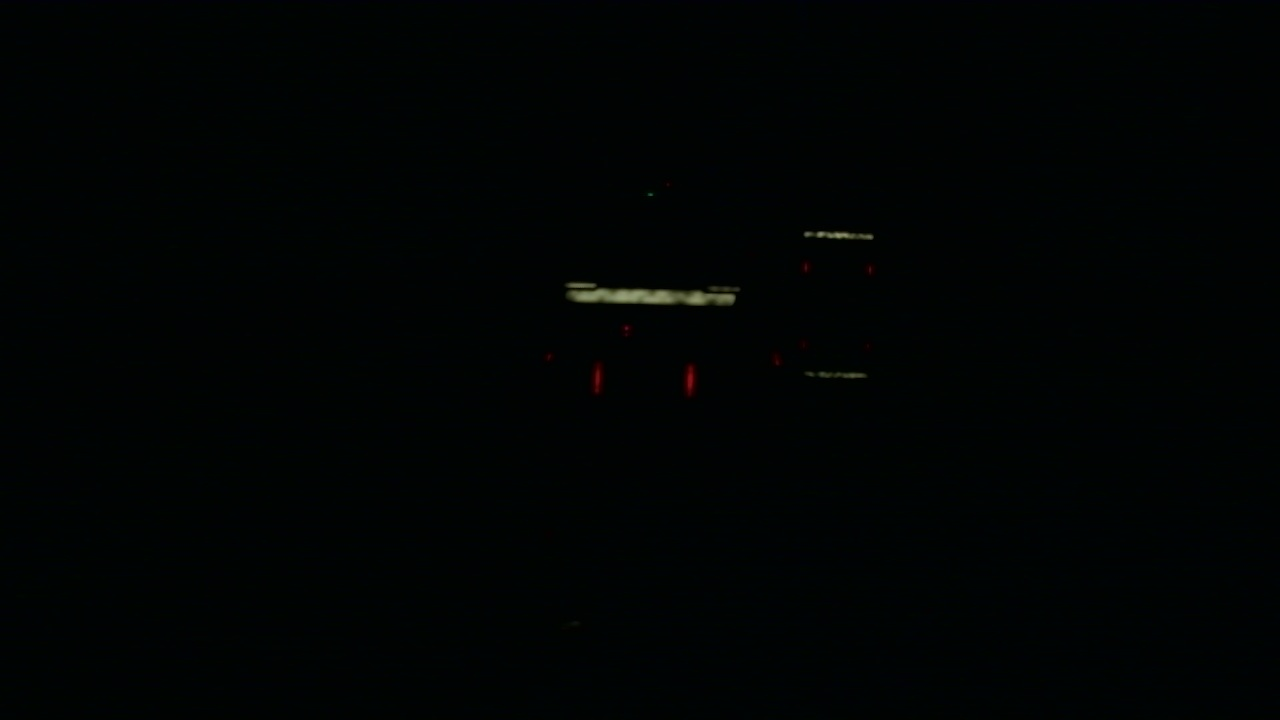lamp: (686, 362, 696, 397), (593, 364, 600, 395), (869, 260, 877, 274), (802, 261, 808, 279)
pair1: (595, 364, 695, 395)
pair2: (802, 261, 873, 277)
